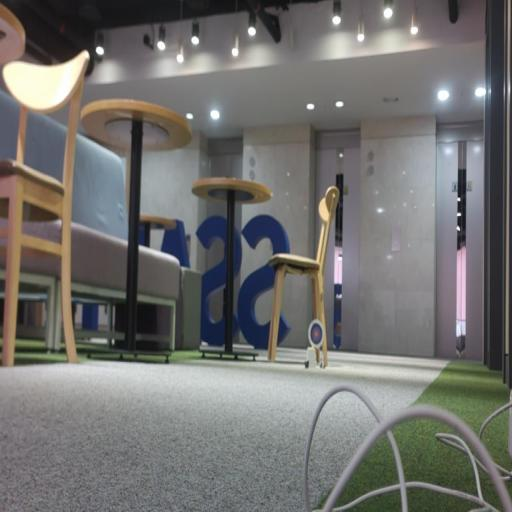target: (308, 319, 325, 349)
